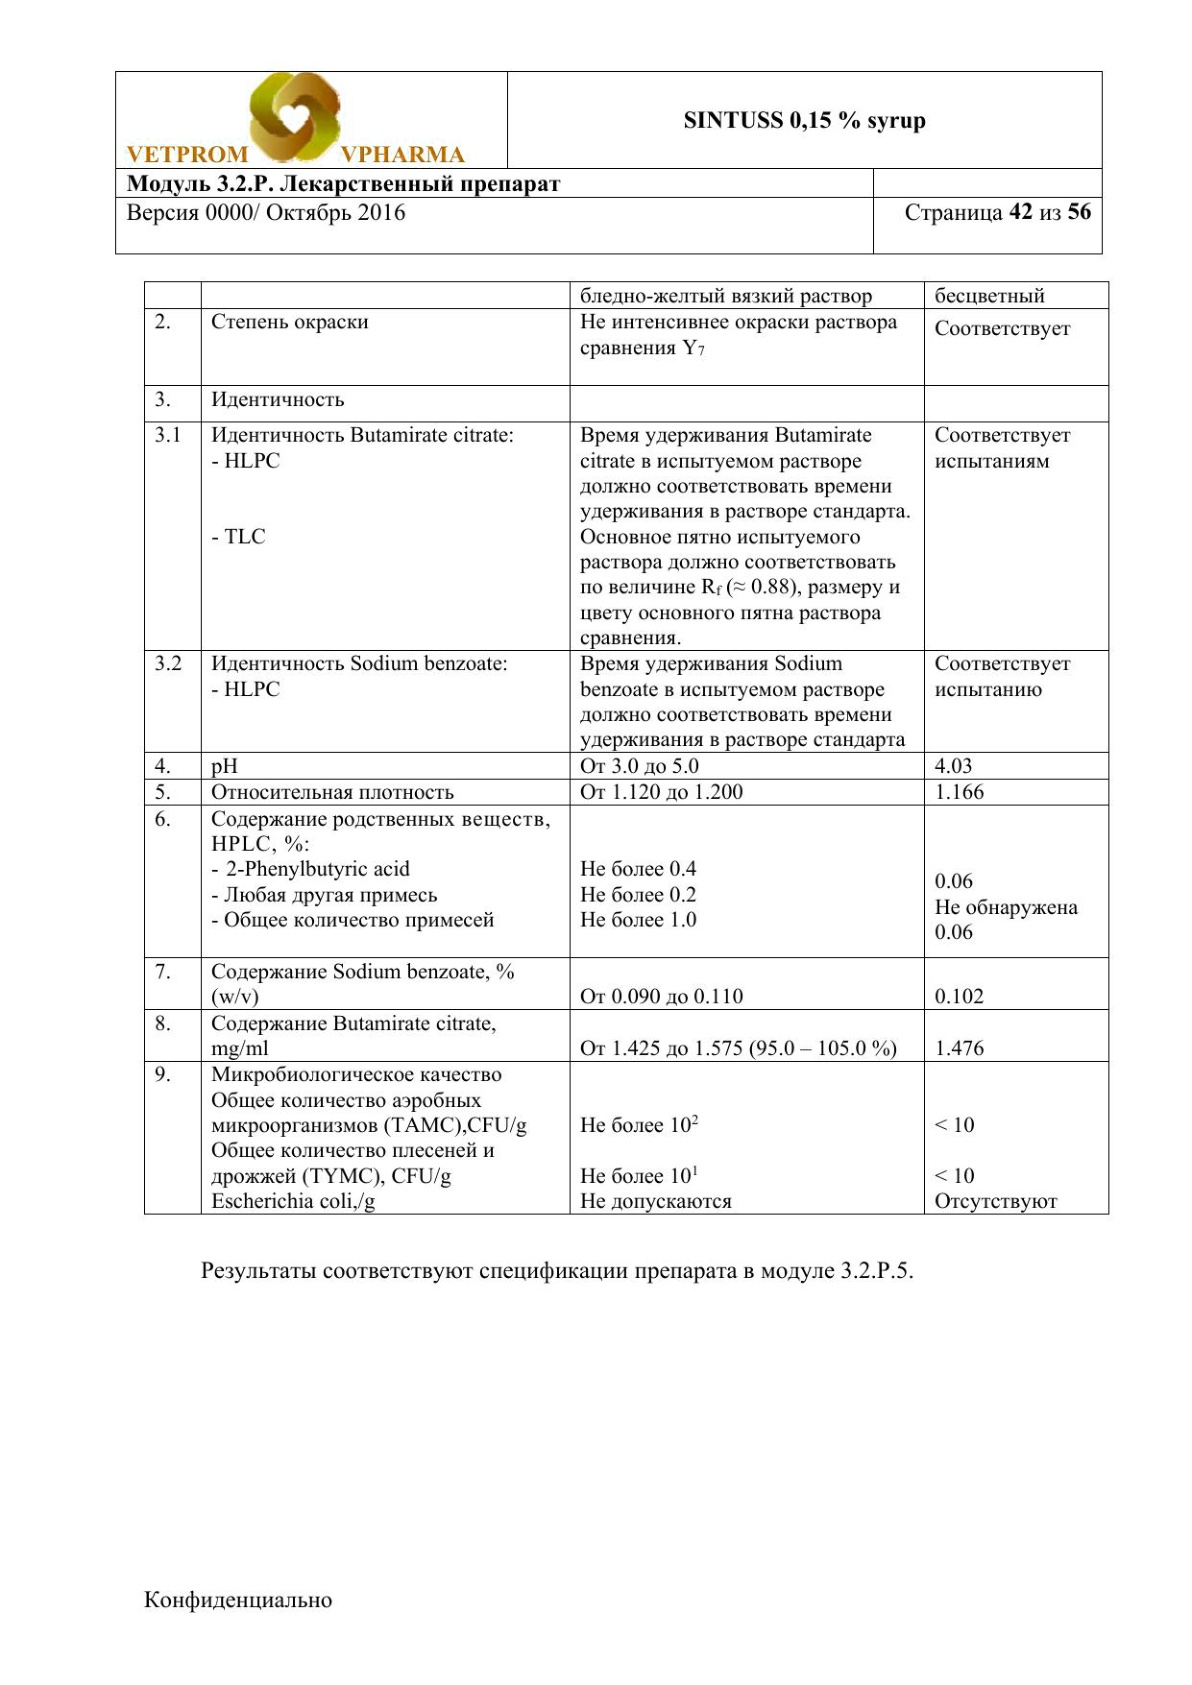full_lined: (142, 280, 1109, 1215)
merged_cells: (114, 68, 1103, 255)
